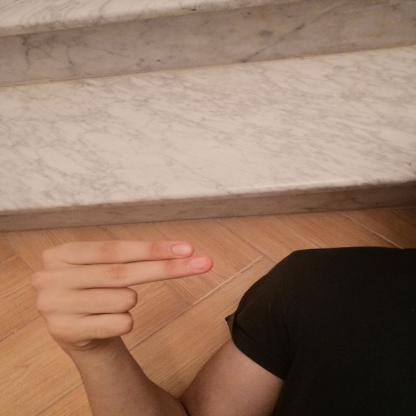AYN: (16, 224, 234, 367)
